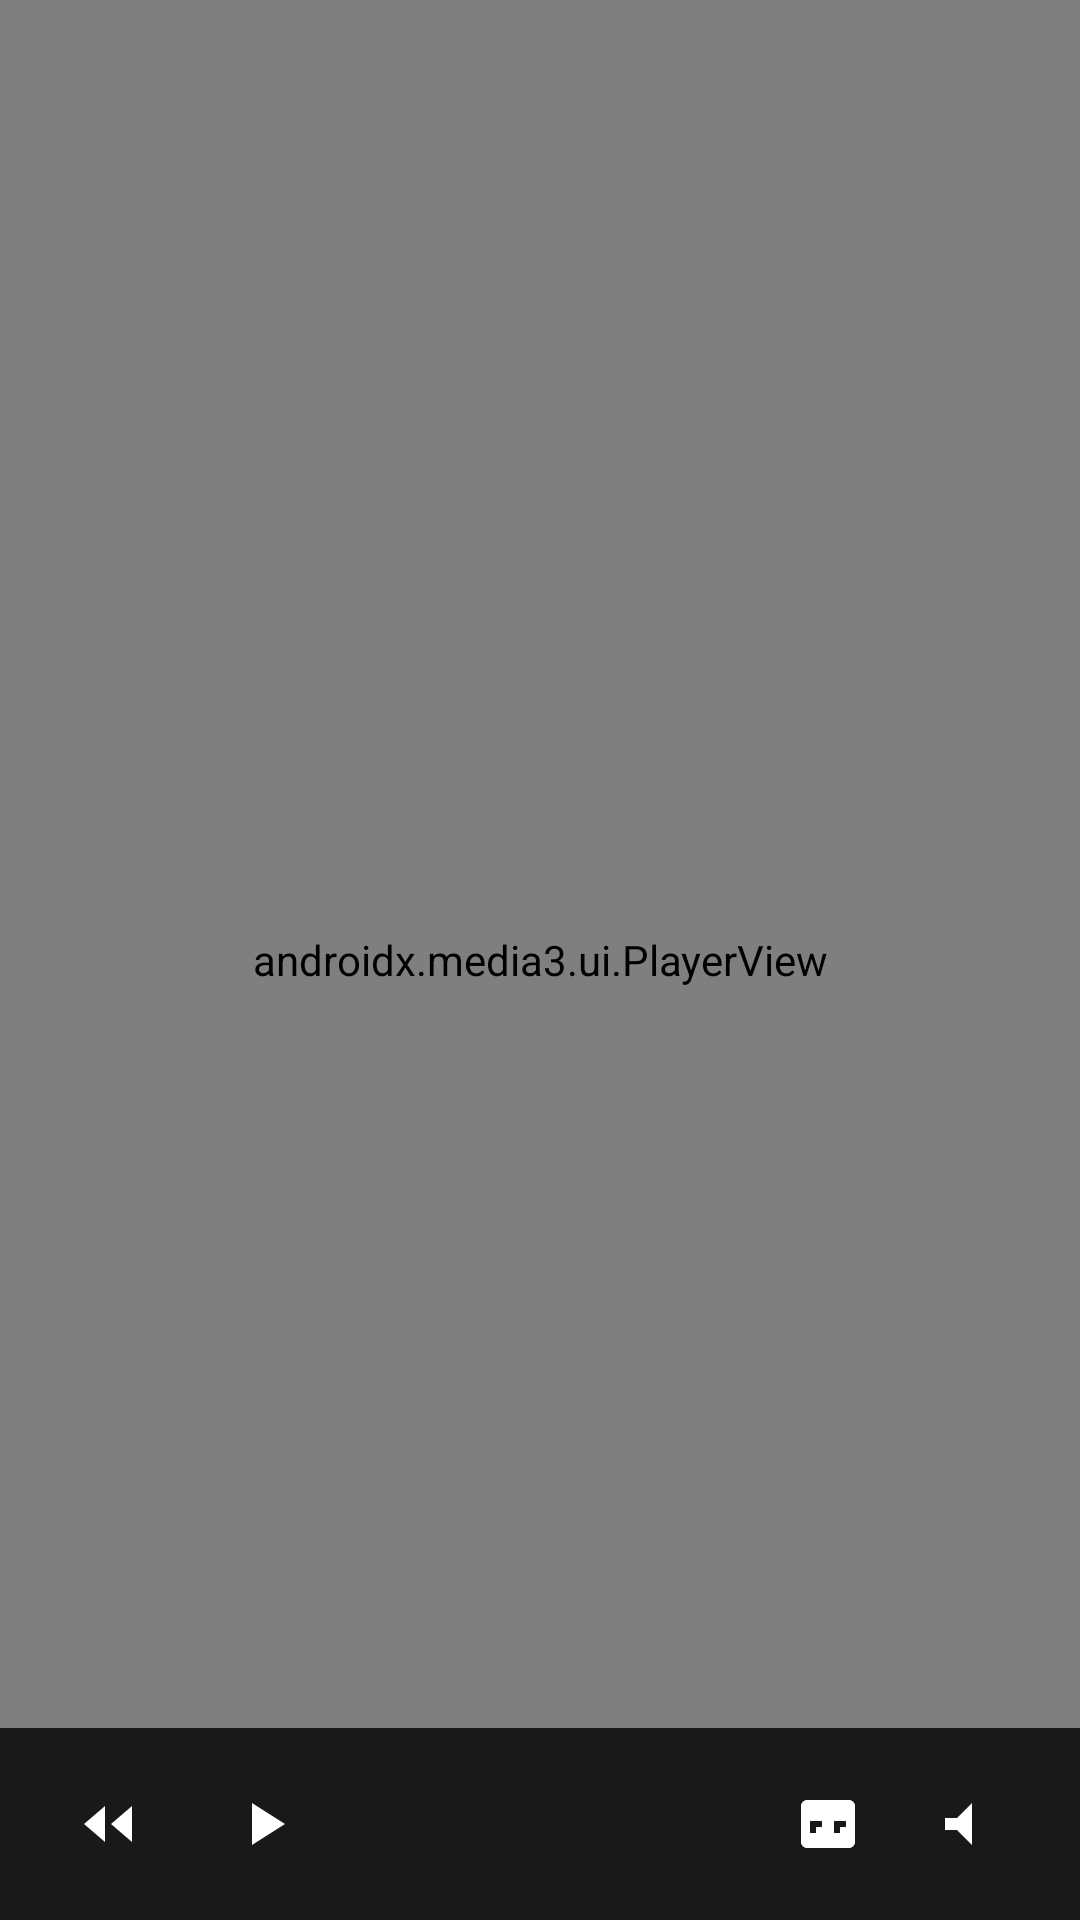

Screen size 1080 x 1920. Icon name, then its center in pixels as point (x, y):
audio: point (958, 1824)
rew: point (108, 1824)
